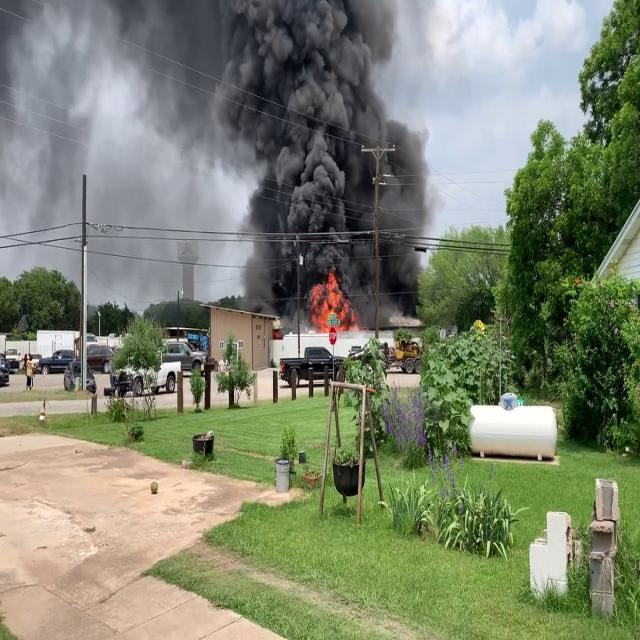Fire: (309, 267, 353, 332)
Smoke: (205, 0, 441, 314), (0, 0, 225, 294)
